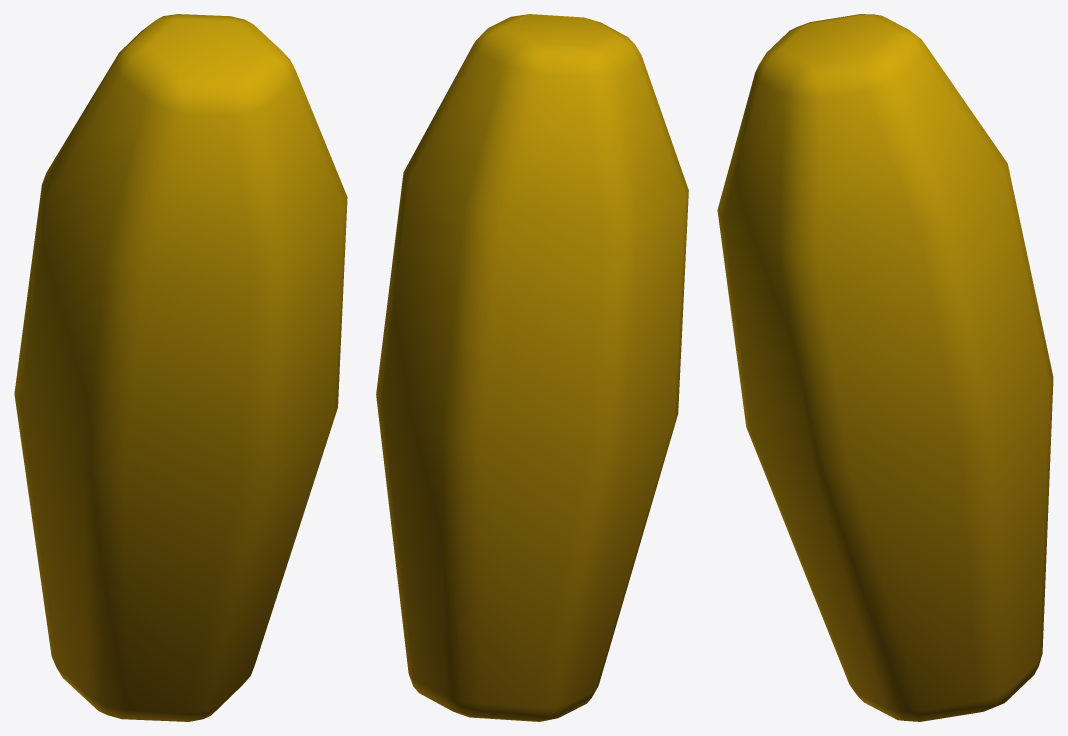
File: drop.fbx
3 views of the same model, side by side, from view 1: azimuth 30°, elevation 25°; view 2: azimuth 150°, elevation 25°; view 3: azimuth 270°, elevation 25° (orthographic). The views are drawn at different scales.
Visible parts, largest first — view 1: Cylinder.005; view 2: Cylinder.005; view 3: Cylinder.005.
Part boxes in pixels (bbox=[...]): Cylinder.005: bbox=[14, 14, 347, 721]; Cylinder.005: bbox=[376, 14, 688, 721]; Cylinder.005: bbox=[717, 14, 1053, 721].
Size of the model in its own units: 0.2292 by 0.5874 by 0.2685.
